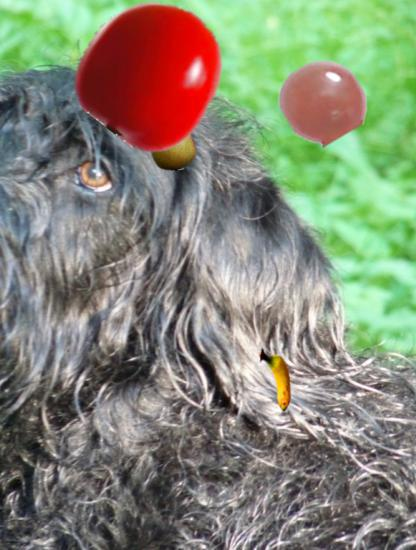Banana: (243, 347, 307, 411)
Pear: (144, 114, 201, 171)
Redcurrant: (281, 59, 366, 144)
Tomato: (80, 0, 224, 144)
